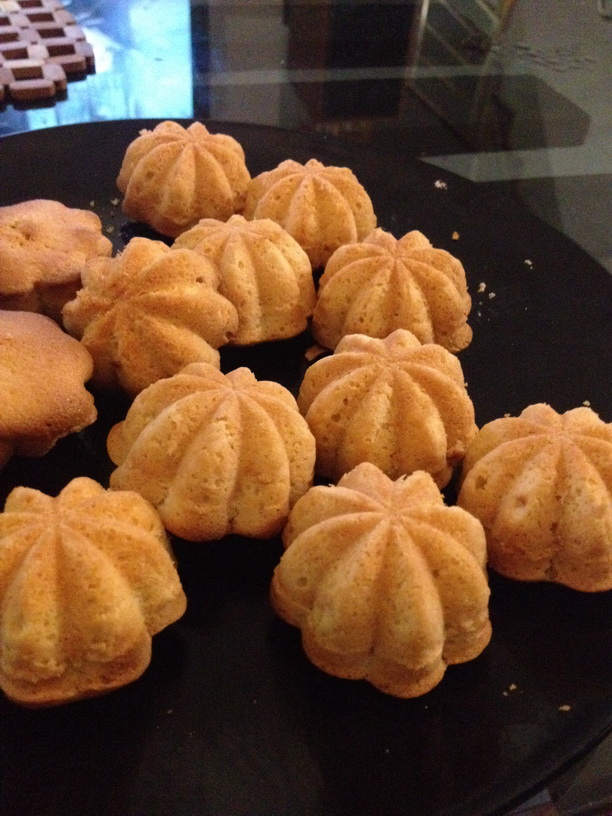kanomkai: (275, 468, 511, 700), (1, 469, 195, 716), (100, 358, 324, 546), (462, 391, 612, 611), (301, 220, 486, 375), (63, 237, 251, 388)
